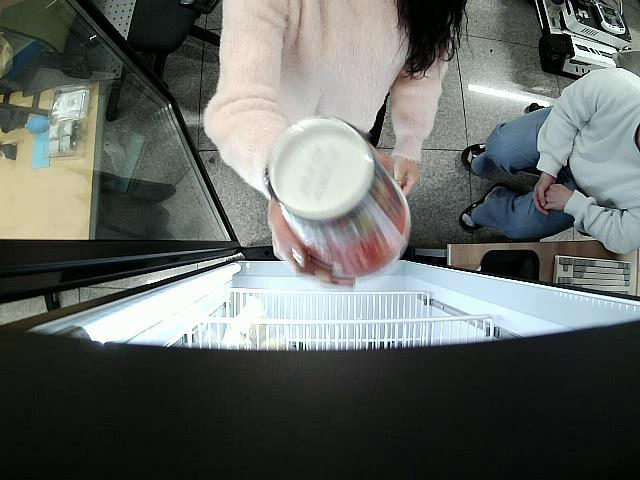00_hand: (265, 196, 357, 291), (393, 153, 421, 197)
02_shinRamen_S: (266, 118, 410, 279)
